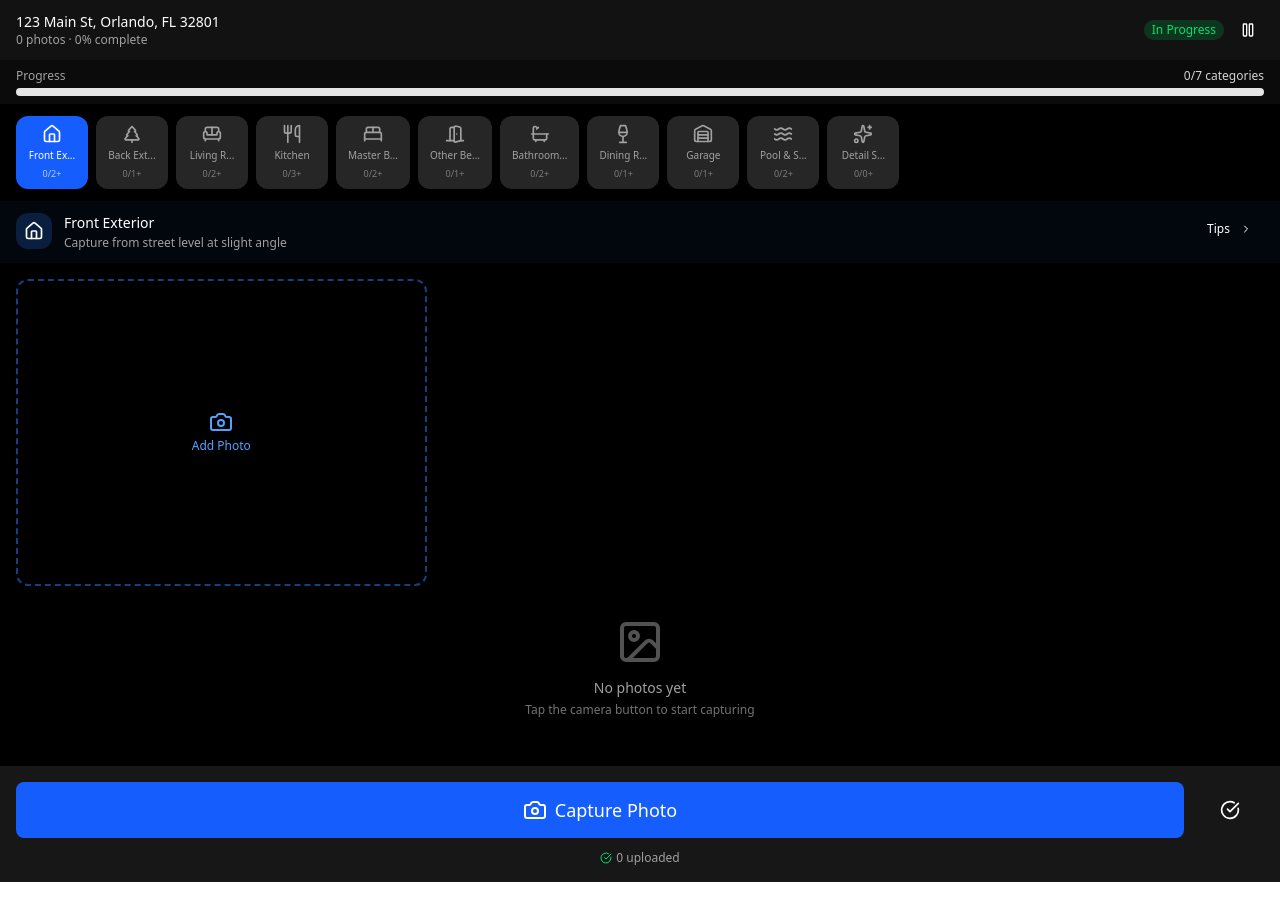
Test case: ShootModeClient › Pause/Resume › should resume from paused state
The width and height of the screenshot is (1280, 900).
Click the button without text next to "In Progress": click(1248, 30) [1232,14,1264,46]
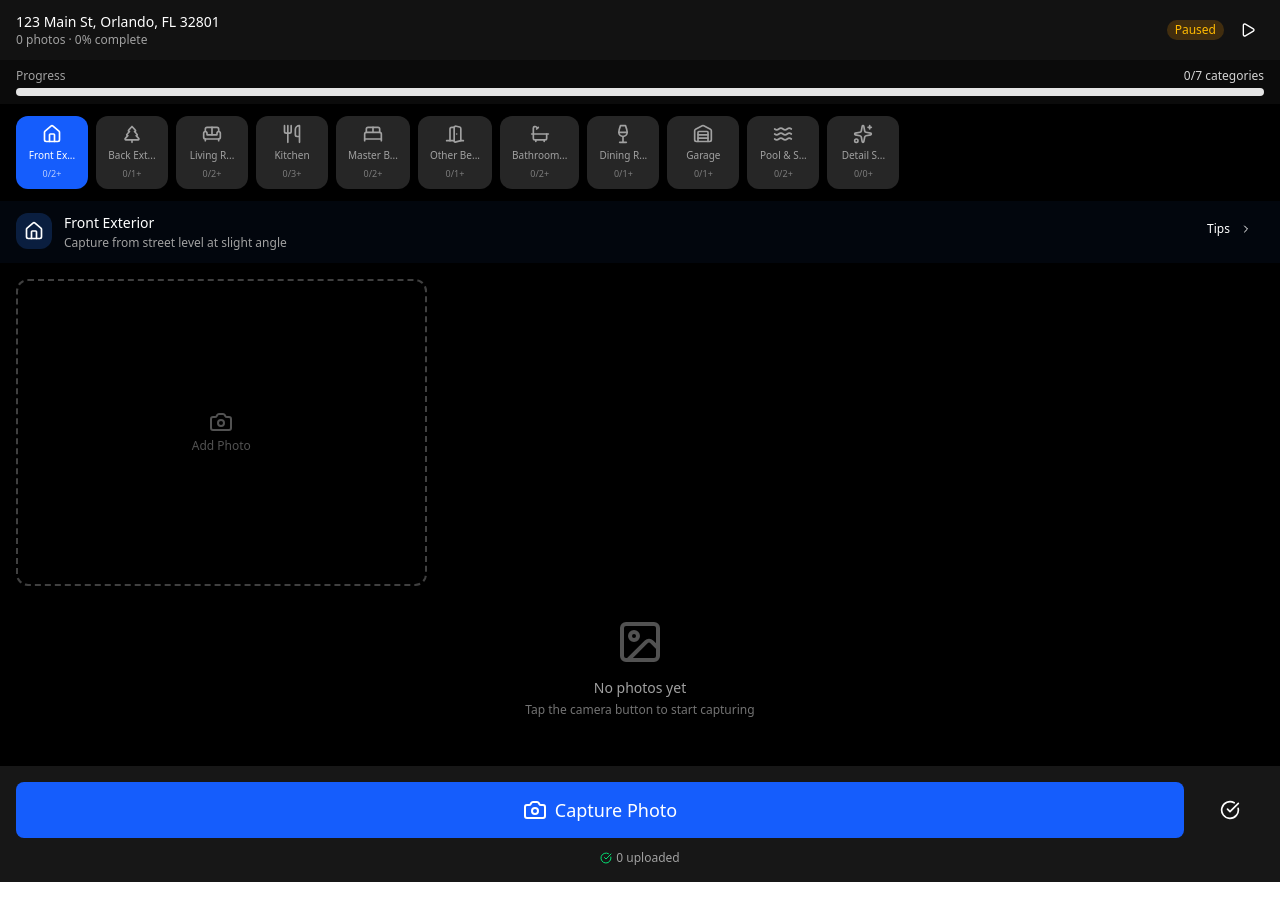
Result: the text "Paused" is shown at [1167,20,1224,40]
Click the button without text next to "Paused": click(1248, 30) [1232,14,1264,46]
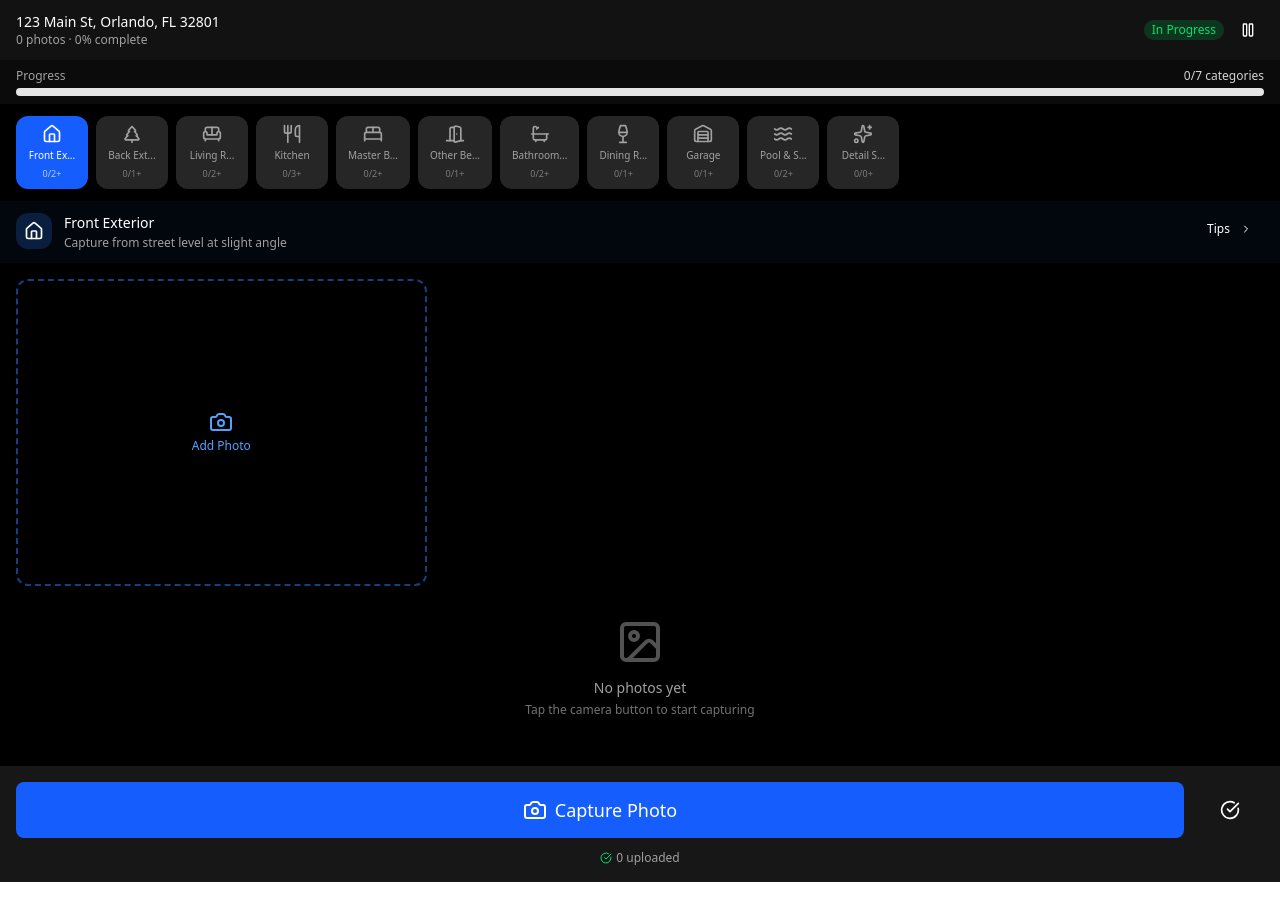
Result: the text "In Progress" is shown at [1144,20,1224,40]
